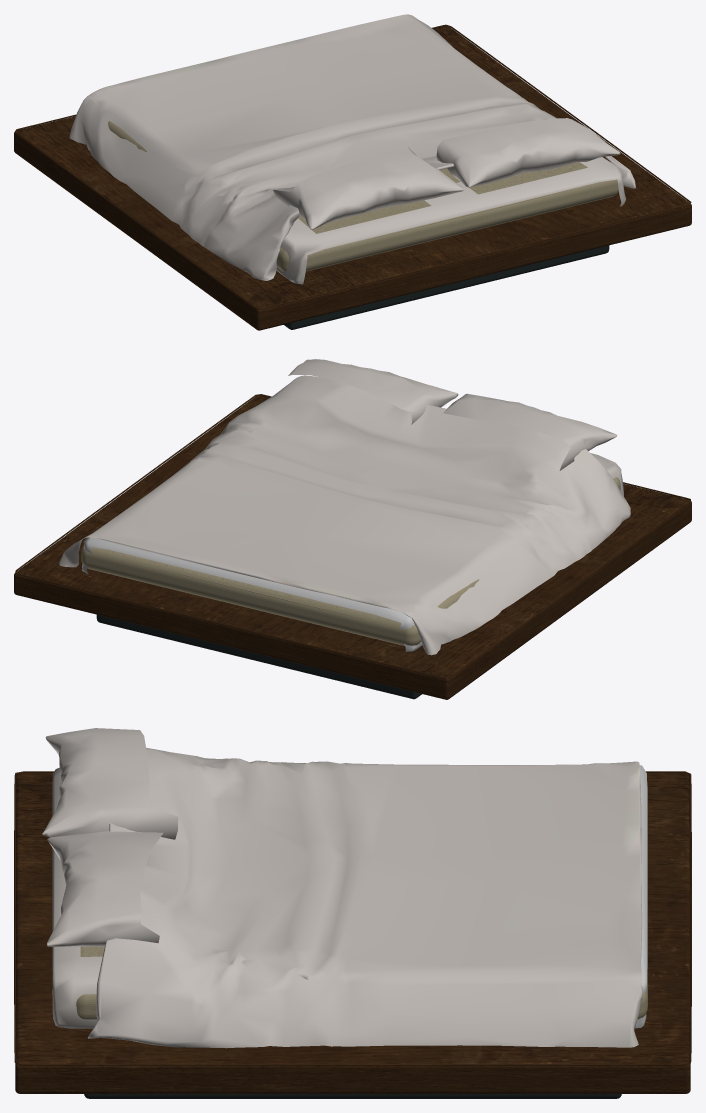
Rendered from refined-oak-platform-bed.glb.
3 views of the same model, one above another, from view 1: azimuth 30°, elevation 25°; view 2: azimuth 150°, elevation 25°; view 3: azimuth 270°, elevation 25° (orthographic). The views are drawn at different scales.
Parts seen in each view (by area): view 1: complete_source_bedding, oak_1, linen_0, dark_0; view 2: complete_source_bedding, oak_1, linen_0, dark_0; view 3: complete_source_bedding, oak_1, dark_0, linen_0.
Part boxes in pixels (x1=…): complete_source_bedding: x1=69, y1=14, x2=635, y2=284; oak_1: x1=14, y1=24, x2=691, y2=330; linen_0: x1=108, y1=121, x2=618, y2=271; dark_0: x1=284, y1=245, x2=609, y2=329; complete_source_bedding: x1=59, y1=359, x2=630, y2=655; oak_1: x1=14, y1=394, x2=691, y2=699; linen_0: x1=81, y1=477, x2=620, y2=645; dark_0: x1=96, y1=614, x2=421, y2=699; complete_source_bedding: x1=42, y1=728, x2=647, y2=1048; oak_1: x1=14, y1=771, x2=691, y2=1093; dark_0: x1=84, y1=1094, x2=621, y2=1098; linen_0: x1=76, y1=781, x2=647, y2=1019.
Size of the model in its own units: 2.43 by 0.7015 by 2.37.
Materials: 5 (4 with a texture image).
